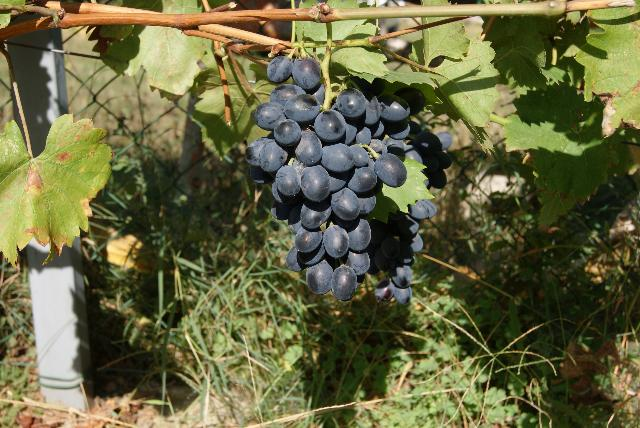grapes: (254, 89, 406, 300), (375, 89, 452, 190), (366, 199, 438, 304)
